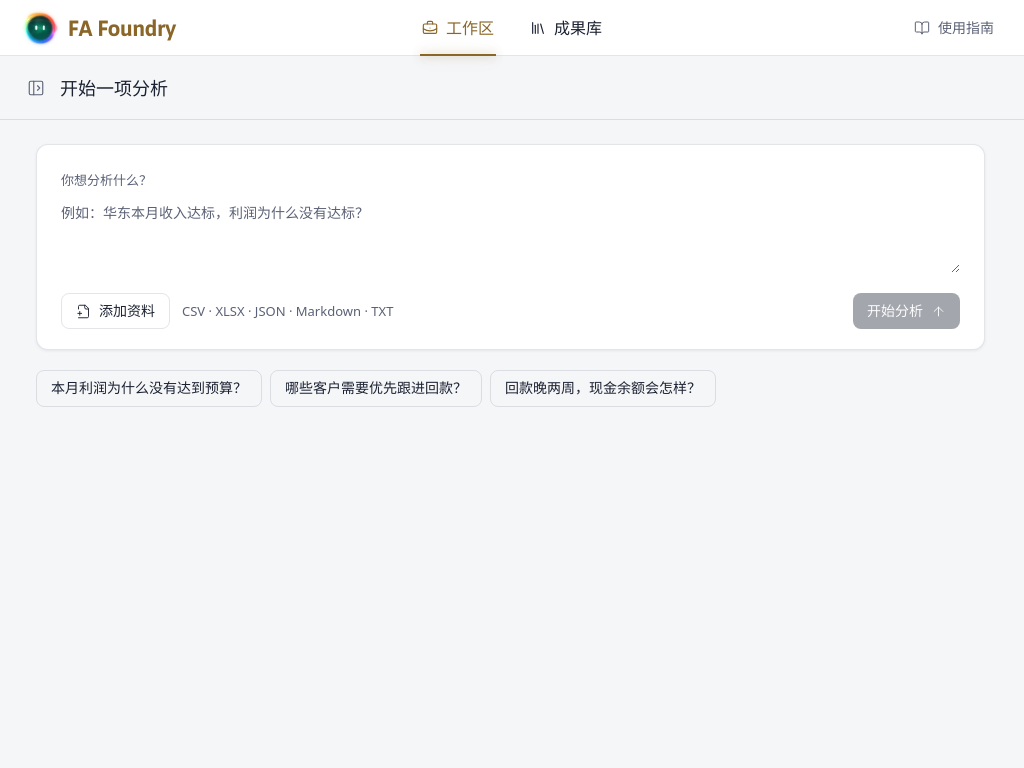
Test case: unified application session lifecycle › empties the trash only after a confirmation that names how many tasks go
The width and height of the screenshot is (1024, 768).
Click the button named "展开任务列表" at point(36, 88), box left=20, top=72, right=52, bottom=104
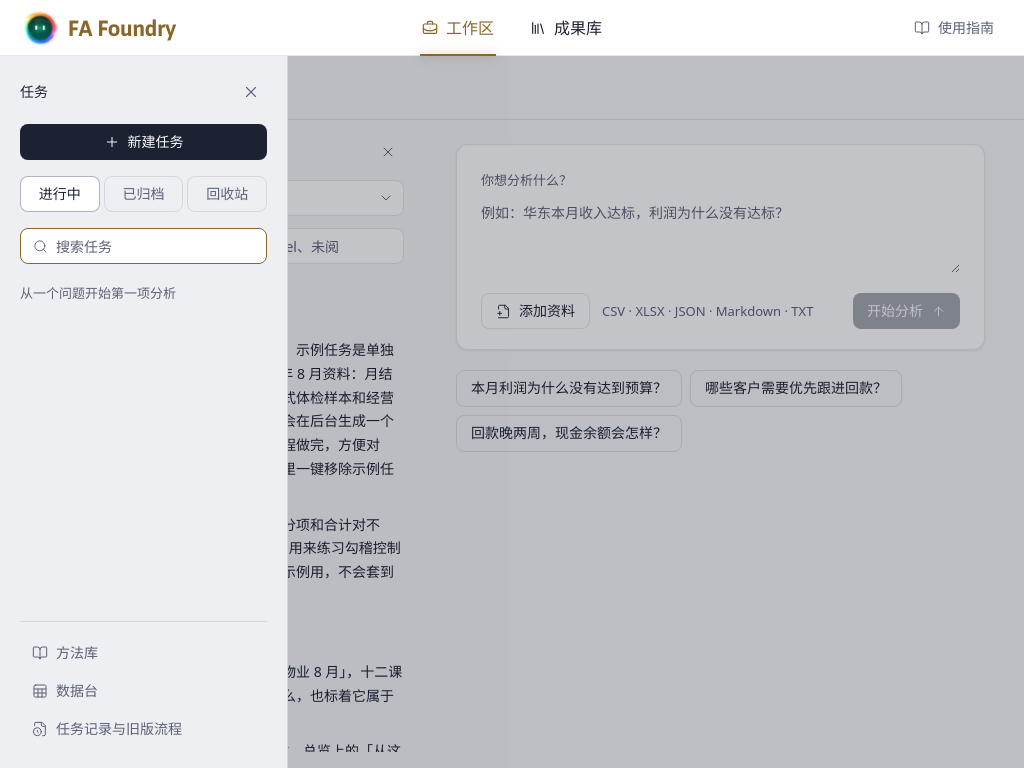
Click the button "回收站" at point(227, 194), box left=187, top=176, right=267, bottom=212
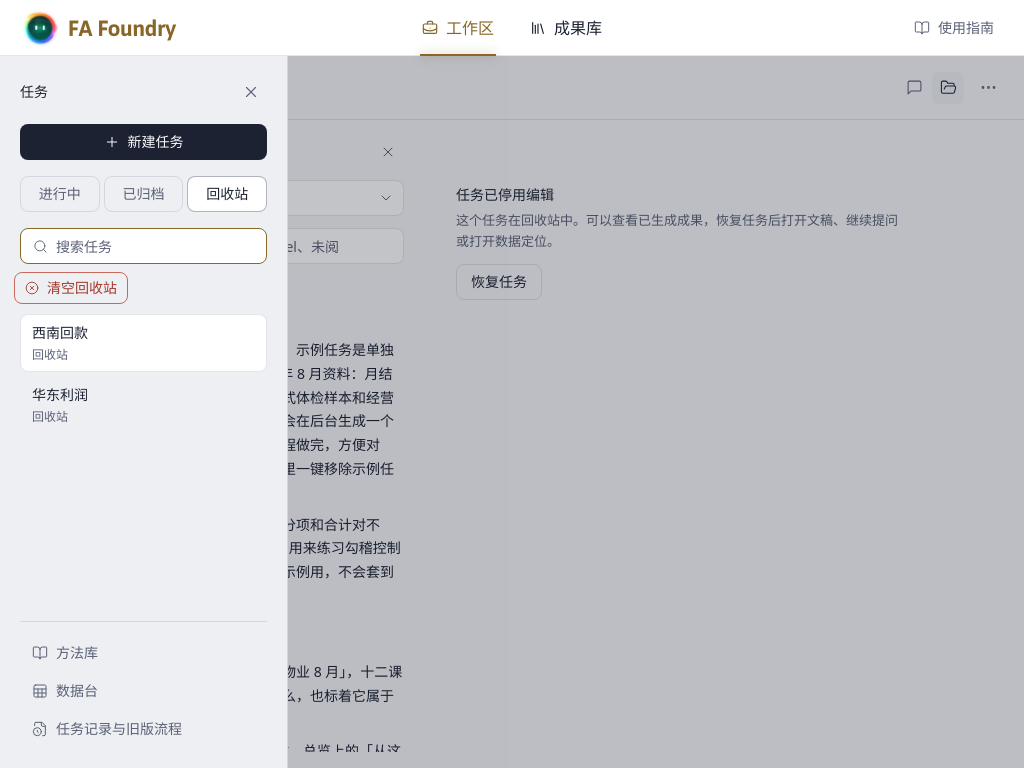
Click the button "清空回收站" at point(71, 288), box left=14, top=272, right=128, bottom=304
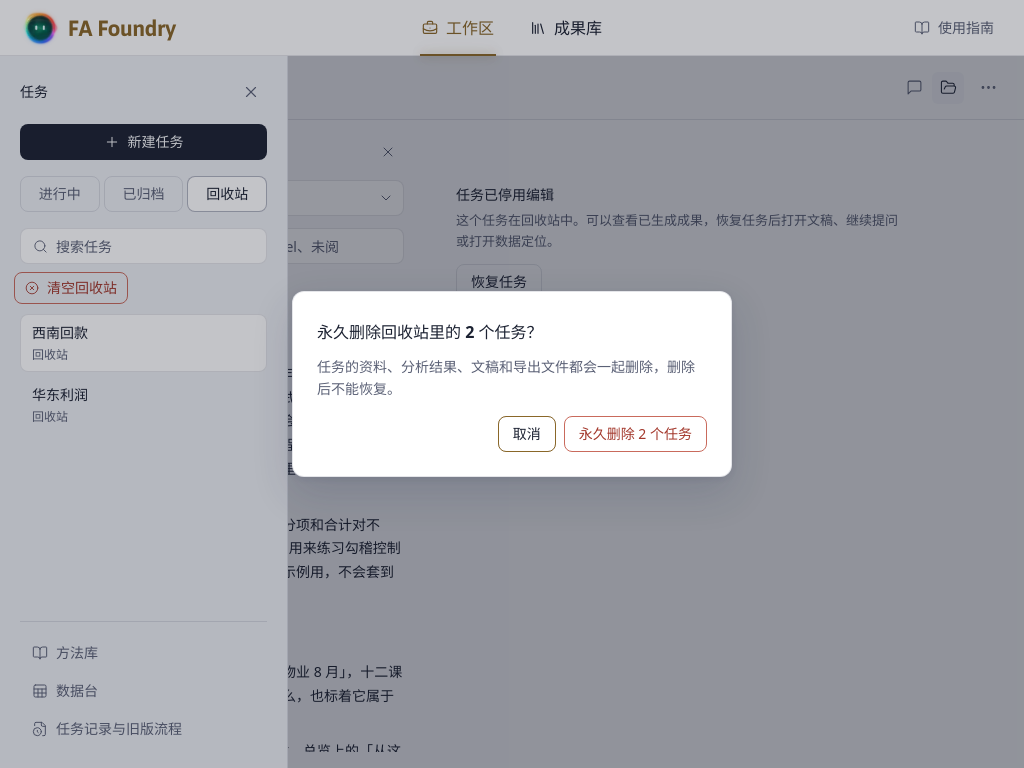
Result: the dialog shows "永久删除回收站里的 2 个任务？" at left=317, top=321, right=542, bottom=343
Result: the dialog shows "不能恢复" at left=317, top=357, right=695, bottom=398
Click the button "取消" at point(527, 434), box left=498, top=416, right=556, bottom=452
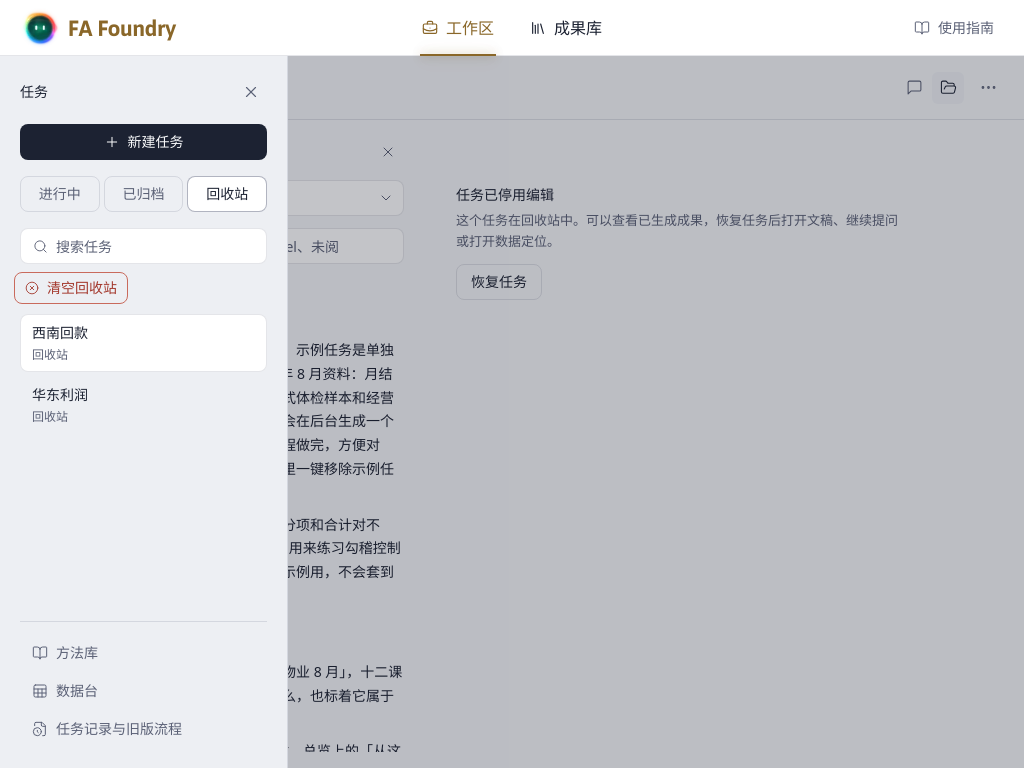
Click the button "清空回收站" at point(71, 288), box left=14, top=272, right=128, bottom=304
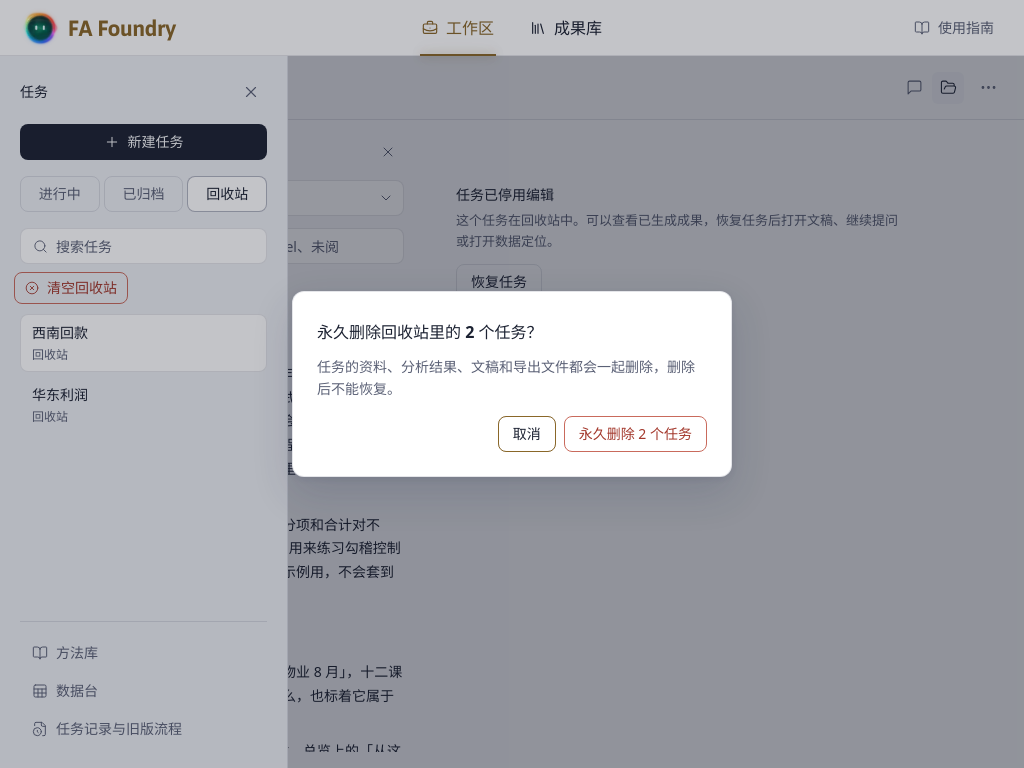
Click the button "永久删除 2 个任务" at point(635, 434), box left=564, top=416, right=707, bottom=452
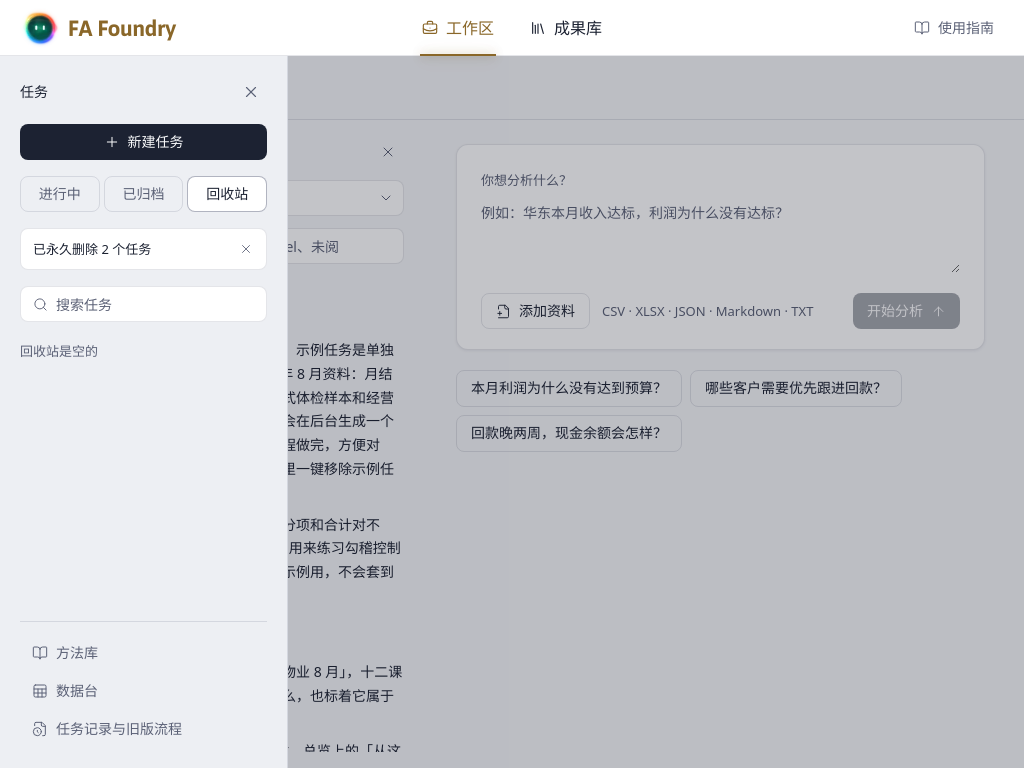
Result: the text "已永久删除 2 个任务" is shown at left=33, top=240, right=151, bottom=258
Result: the text "回收站是空的" is shown at left=20, top=342, right=98, bottom=360
Result: the button "清空回收站" is gone
